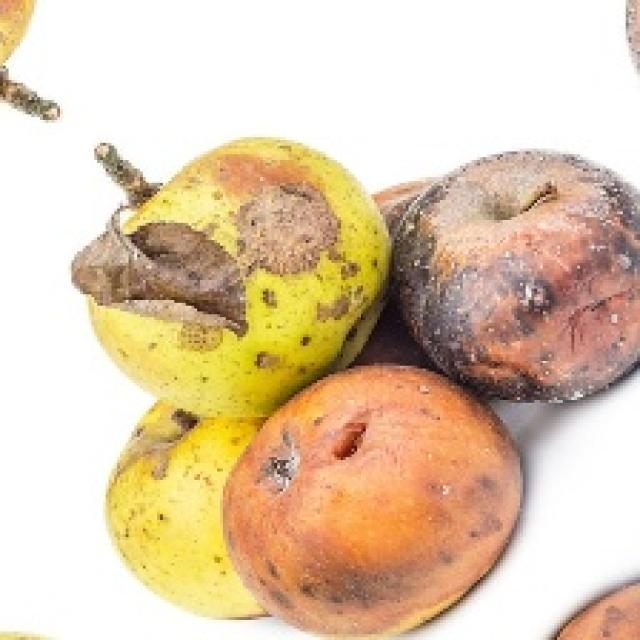rotten_apple: (92, 138, 378, 404), (226, 371, 518, 627), (403, 150, 640, 390)
